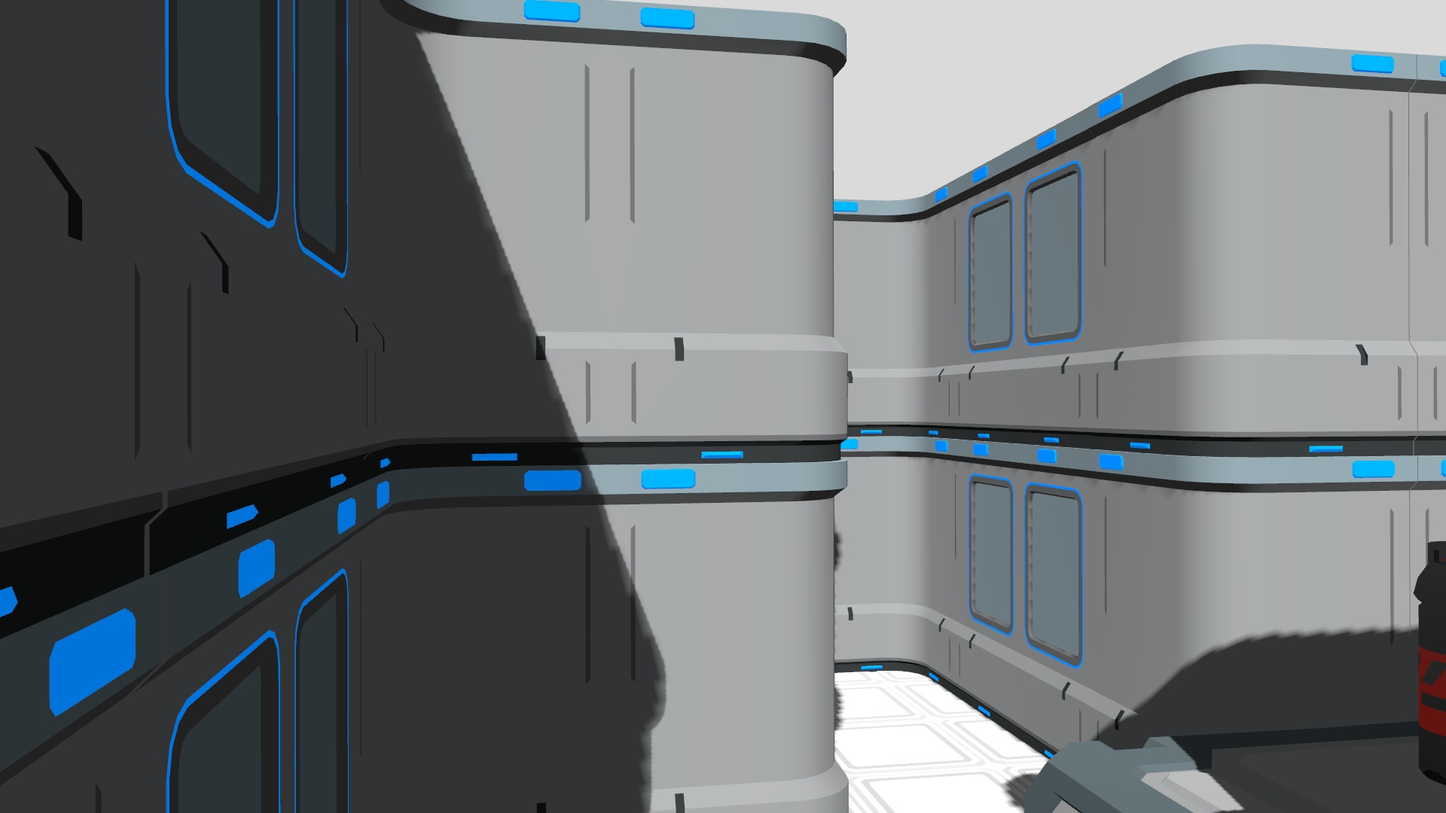red_barrel: (1412, 535, 1446, 787)
